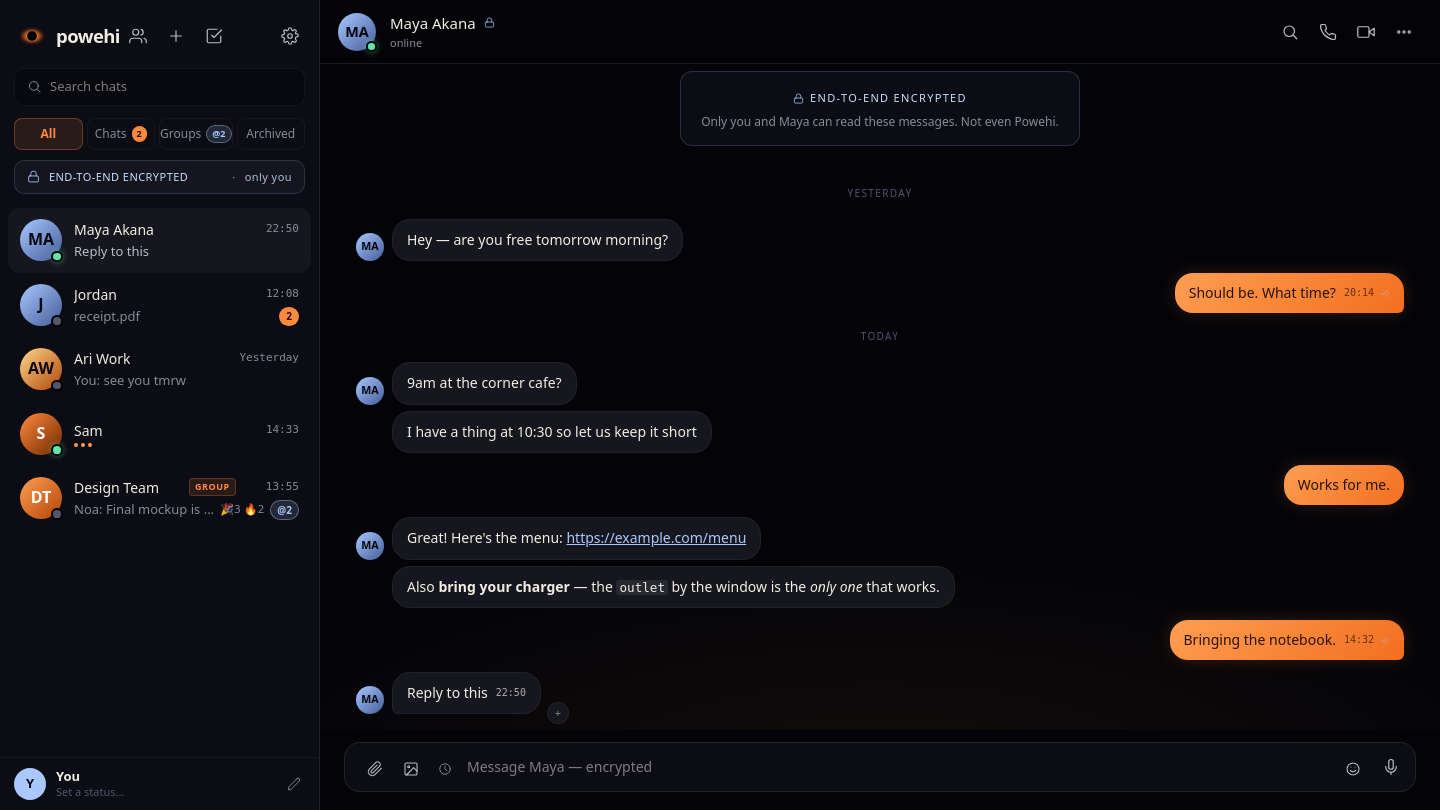
it: ChatLayout — keyboard shortcuts (↑ to edit last, Escape to cancel) › Escape cancels active reply mode (reply-preview disappears)
(page scrolled)
Hover over the element with test id "message-bubble" showing "MA Reply to this 22:50 +" at (462,698), box [356, 672, 569, 724]
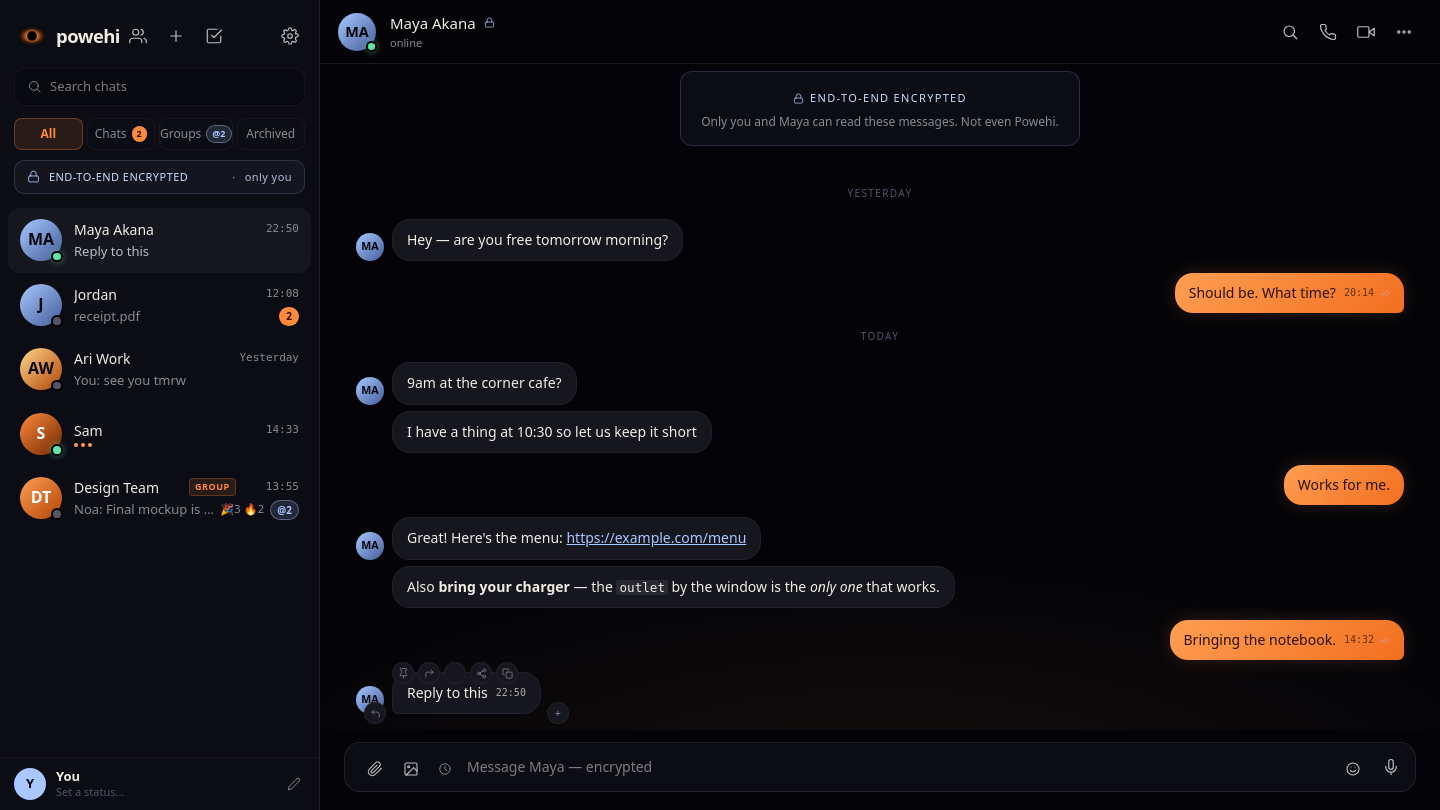
Click the button with test id "reply-button". click: (375,713)
box: [364, 702, 386, 724]
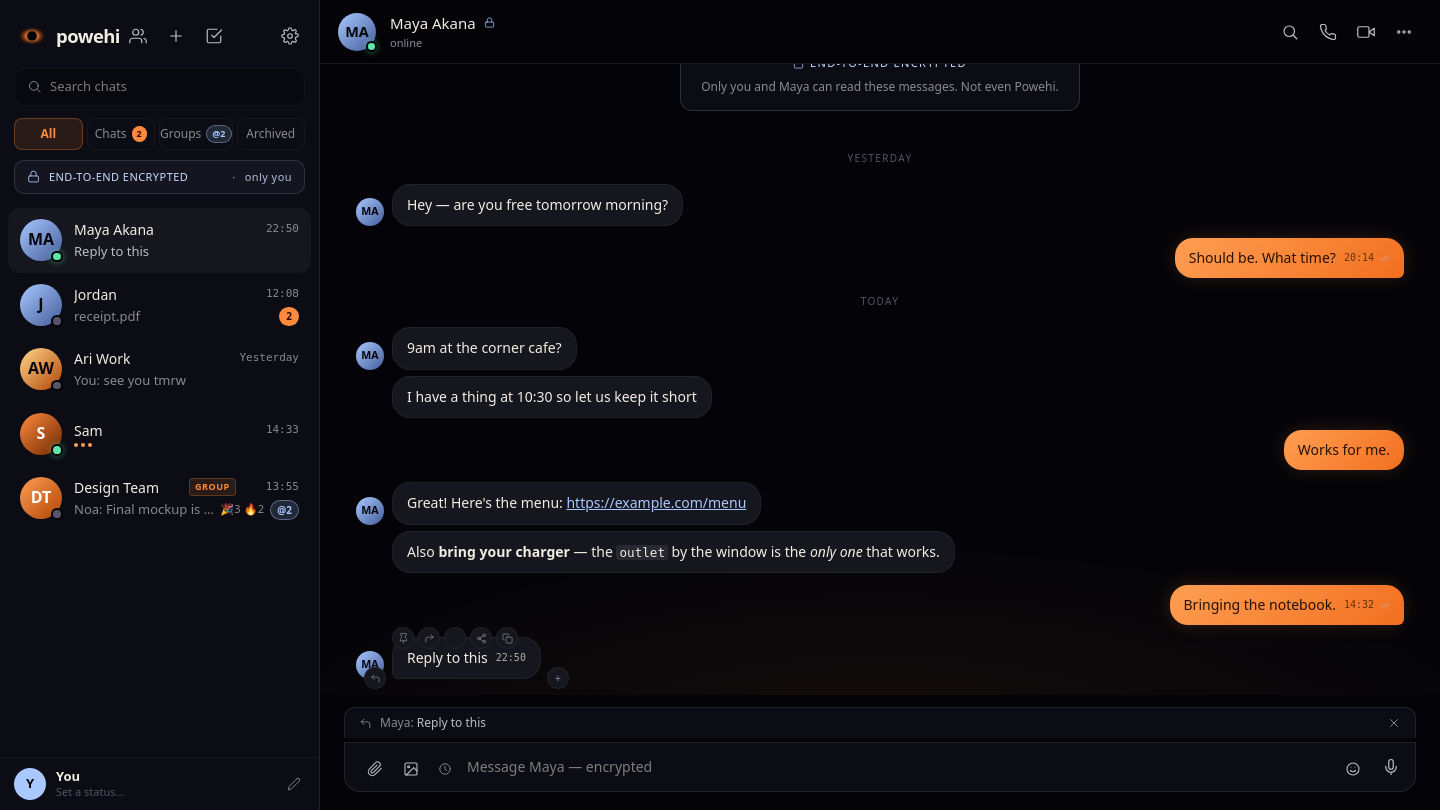
Now the element with test id "reply-preview" is shown, box [344, 707, 1416, 738]
Press Escape in the text box with placeholder "Message Maya — encrypted", box [463, 749, 1333, 785]
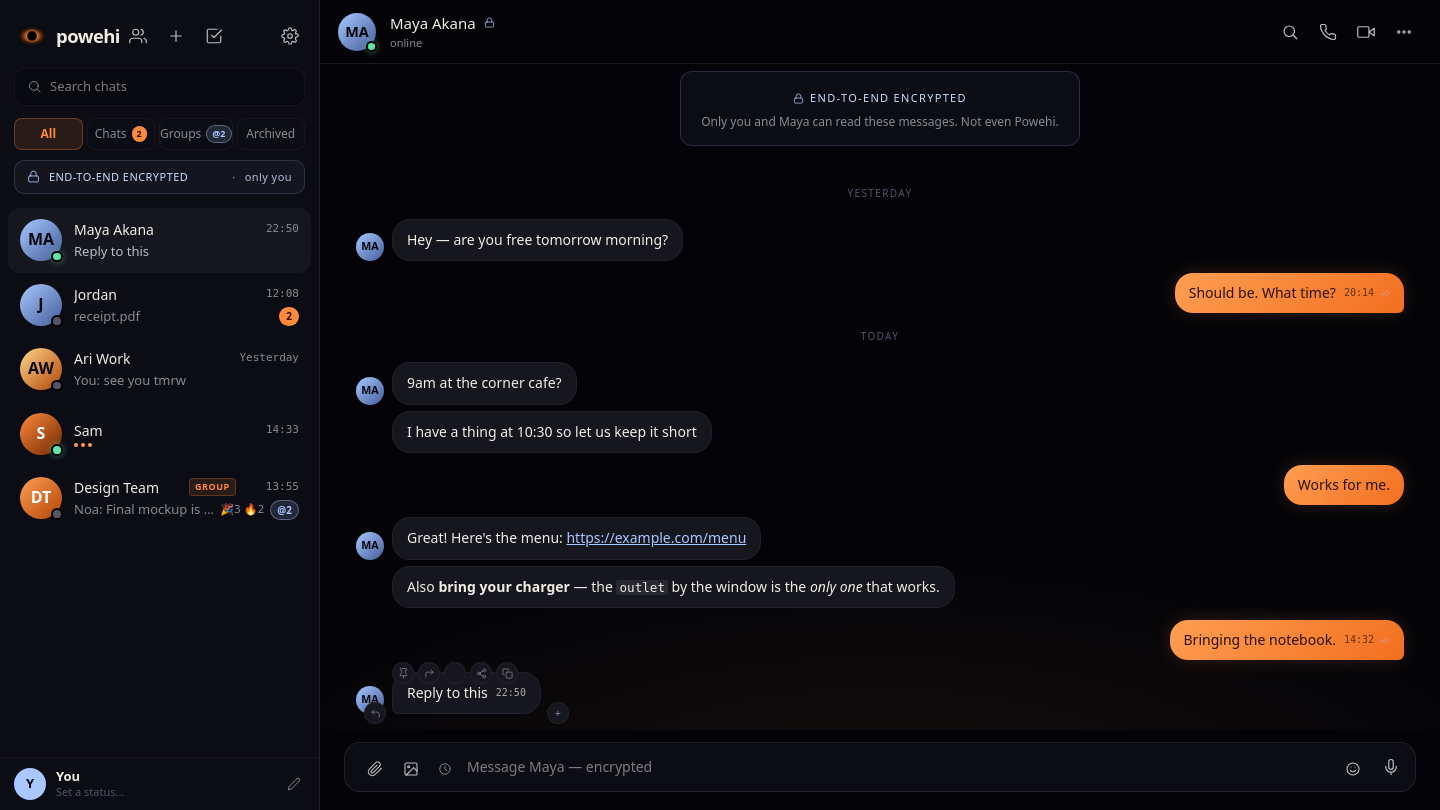
Now the element with test id "reply-preview" is gone
